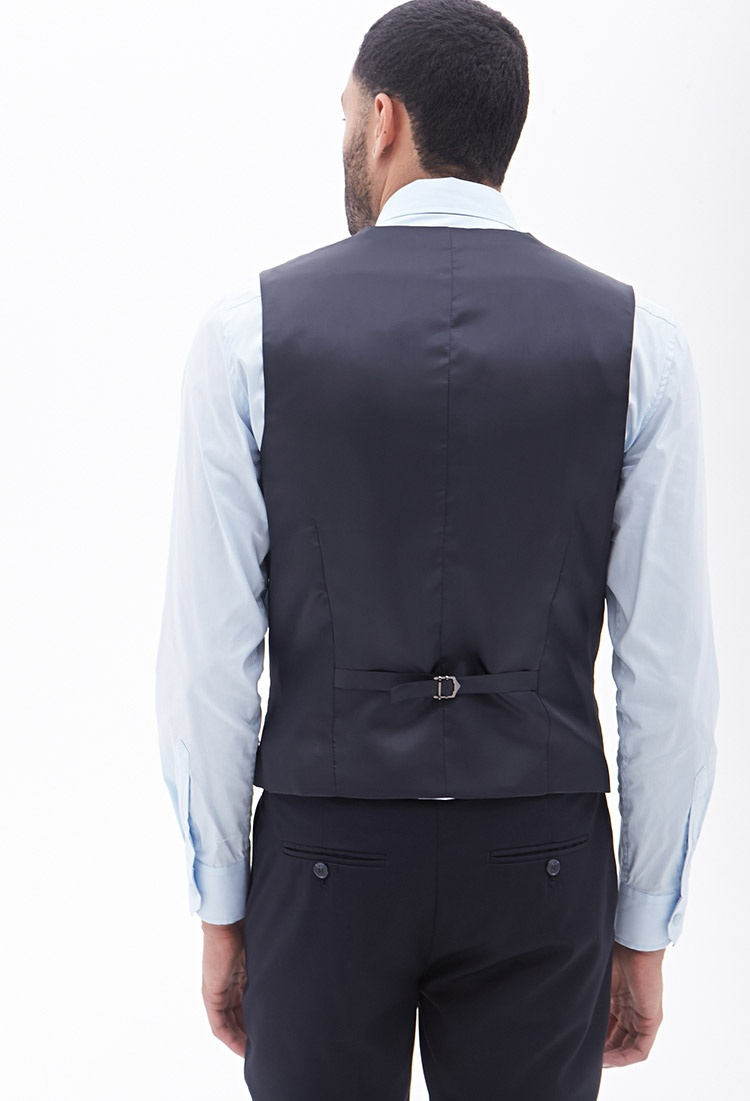F_dress pants: (223, 787, 629, 1093)
F_shirt: (157, 179, 717, 945)
F_waistcoat: (247, 224, 630, 808)
